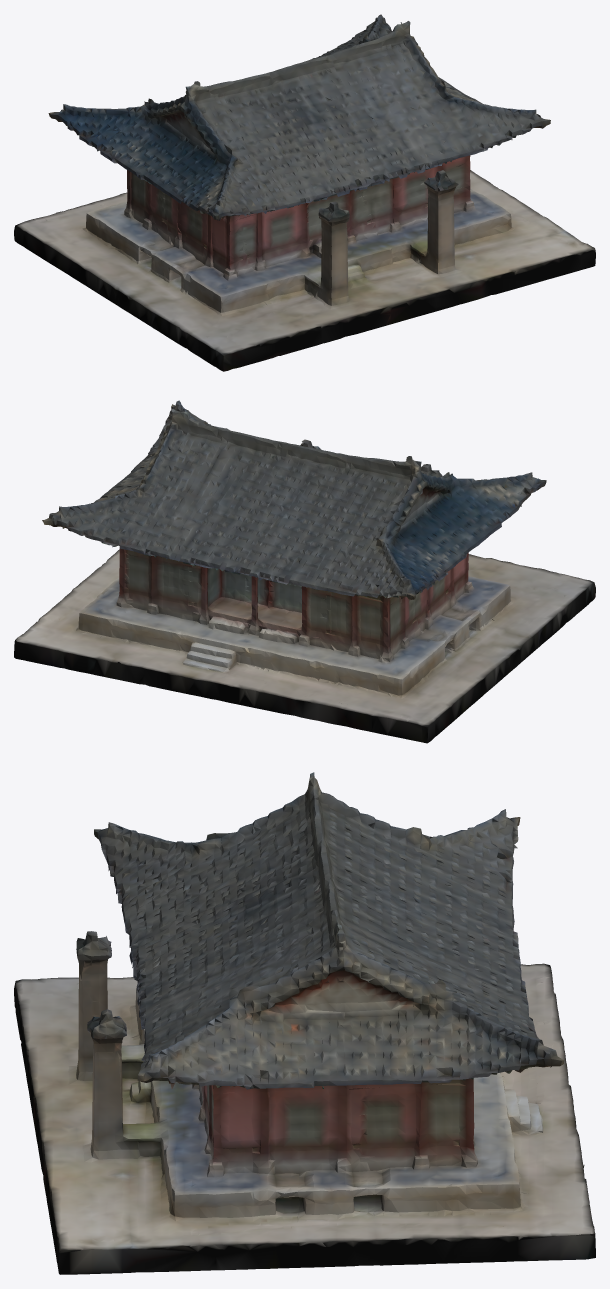
File: manchunjeon.glb
The picture shows the model from 3 angles, top to bottom: view 1: azimuth 30°, elevation 25°; view 2: azimuth 150°, elevation 25°; view 3: azimuth 270°, elevation 25°; orthographic projection. The views are drawn at different scales.
Size of the model in its own units: 1.04 by 0.476 by 0.8906.
